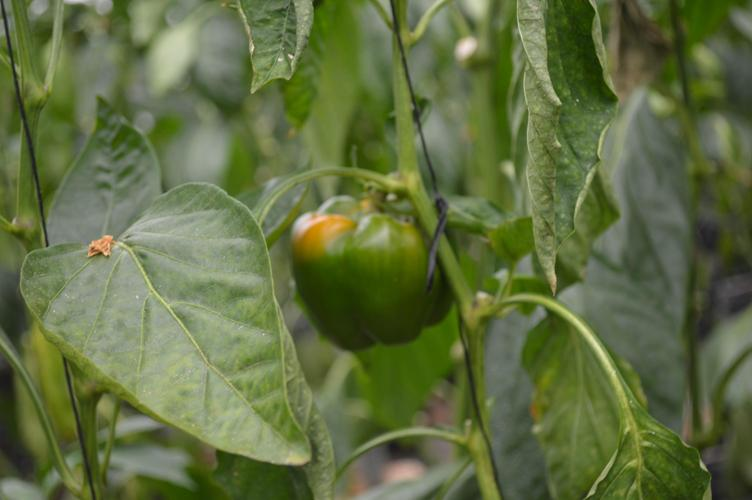BellPepper: (284, 184, 451, 354)
